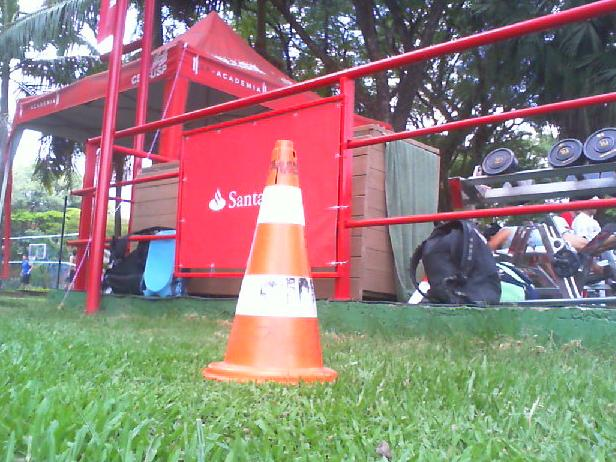0 cone: (201, 140, 337, 385)
